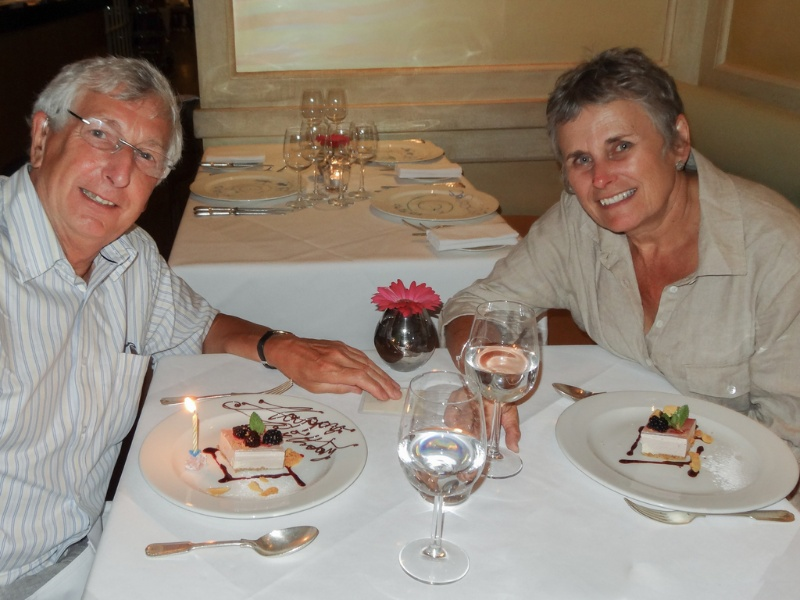dining table: (116, 318, 800, 598), (188, 111, 519, 329)
